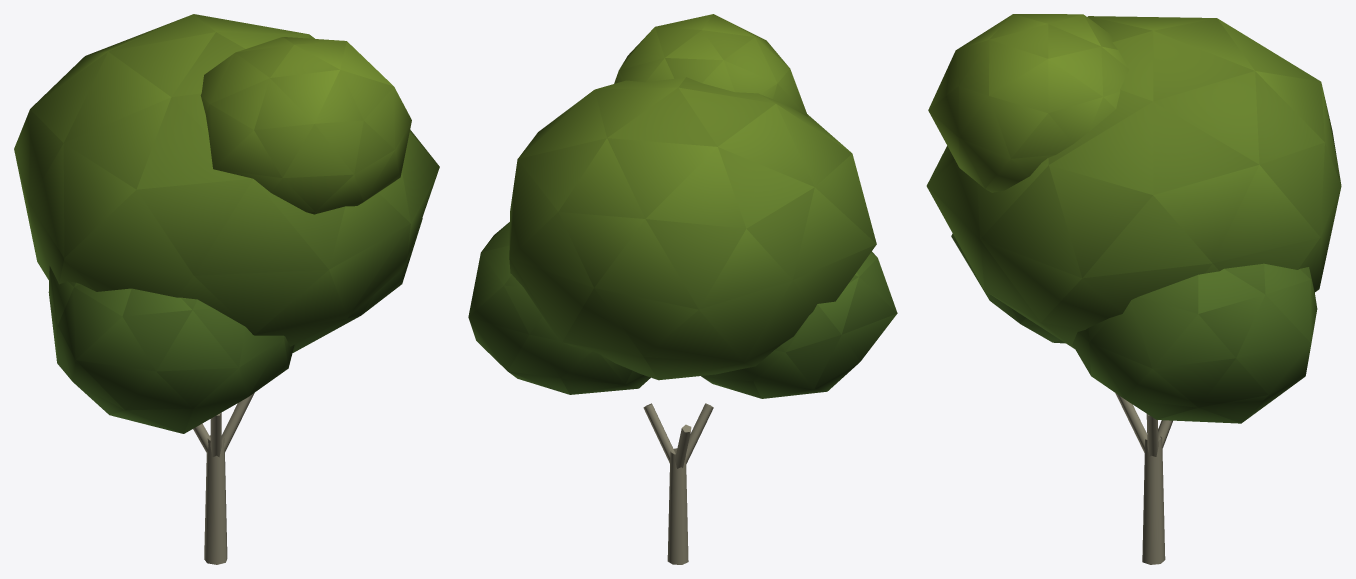
Rendered from arbre_platane.glb.
3 renders of one model, left to right at view 1: azimuth 30°, elevation 25°; view 2: azimuth 150°, elevation 25°; view 3: azimuth 270°, elevation 25°, orthographic. The views are drawn at different scales.
Parts seen in each view (by area): view 1: lod0; view 2: lod0; view 3: lod0.
Part boxes in pixels (box(x1,y1,x2,y2)): lod0: box(14, 14, 439, 564); lod0: box(468, 14, 897, 564); lod0: box(926, 14, 1341, 564).
Size of what is drawn, in the model's own units: 12.31 by 16.14 by 11.07.
